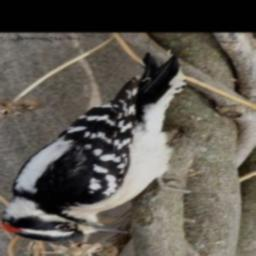Woodpecker: (0, 52, 189, 243)
